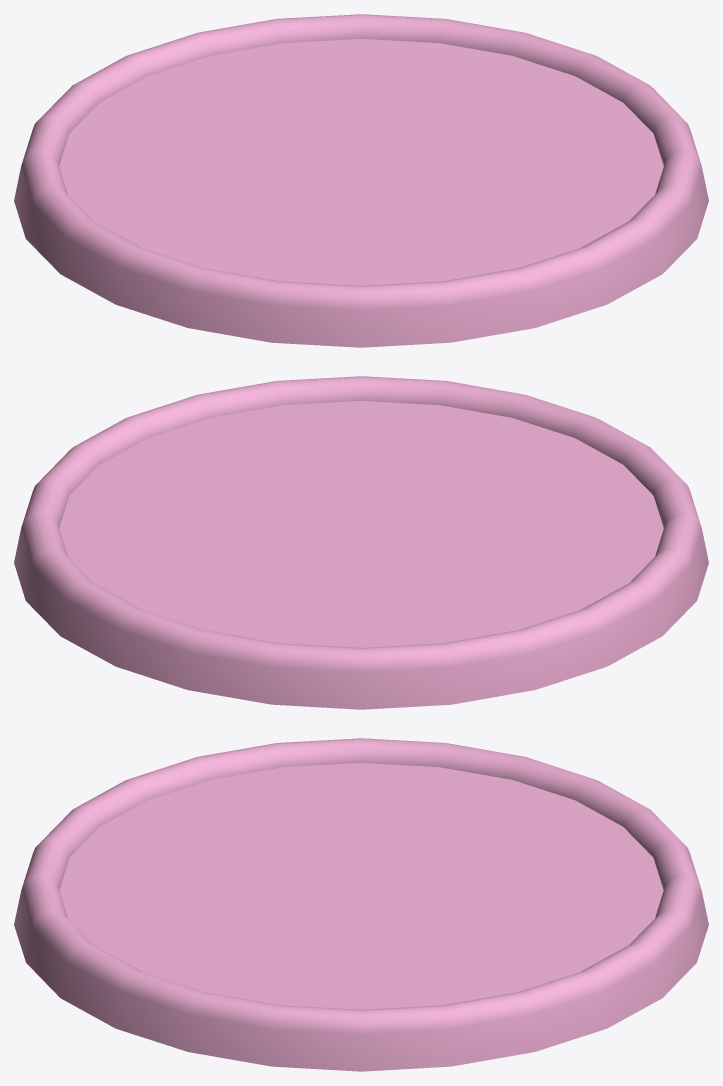
Rendered from clock_wall_1980_model.fbx.
3 renders of one model, top to bottom at view 1: azimuth 30°, elevation 25°; view 2: azimuth 150°, elevation 25°; view 3: azimuth 270°, elevation 25°, orthographic.
Parts seen in each view (by area): view 1: clock_wall_1980_model; view 2: clock_wall_1980_model; view 3: clock_wall_1980_model.
Boxes of the visible parts, <box> form: clock_wall_1980_model: <box>14,14,708,347</box>; clock_wall_1980_model: <box>14,376,708,709</box>; clock_wall_1980_model: <box>14,738,708,1071</box>.
Bounding box in the file's own units: 1838 × 144 × 1838.
